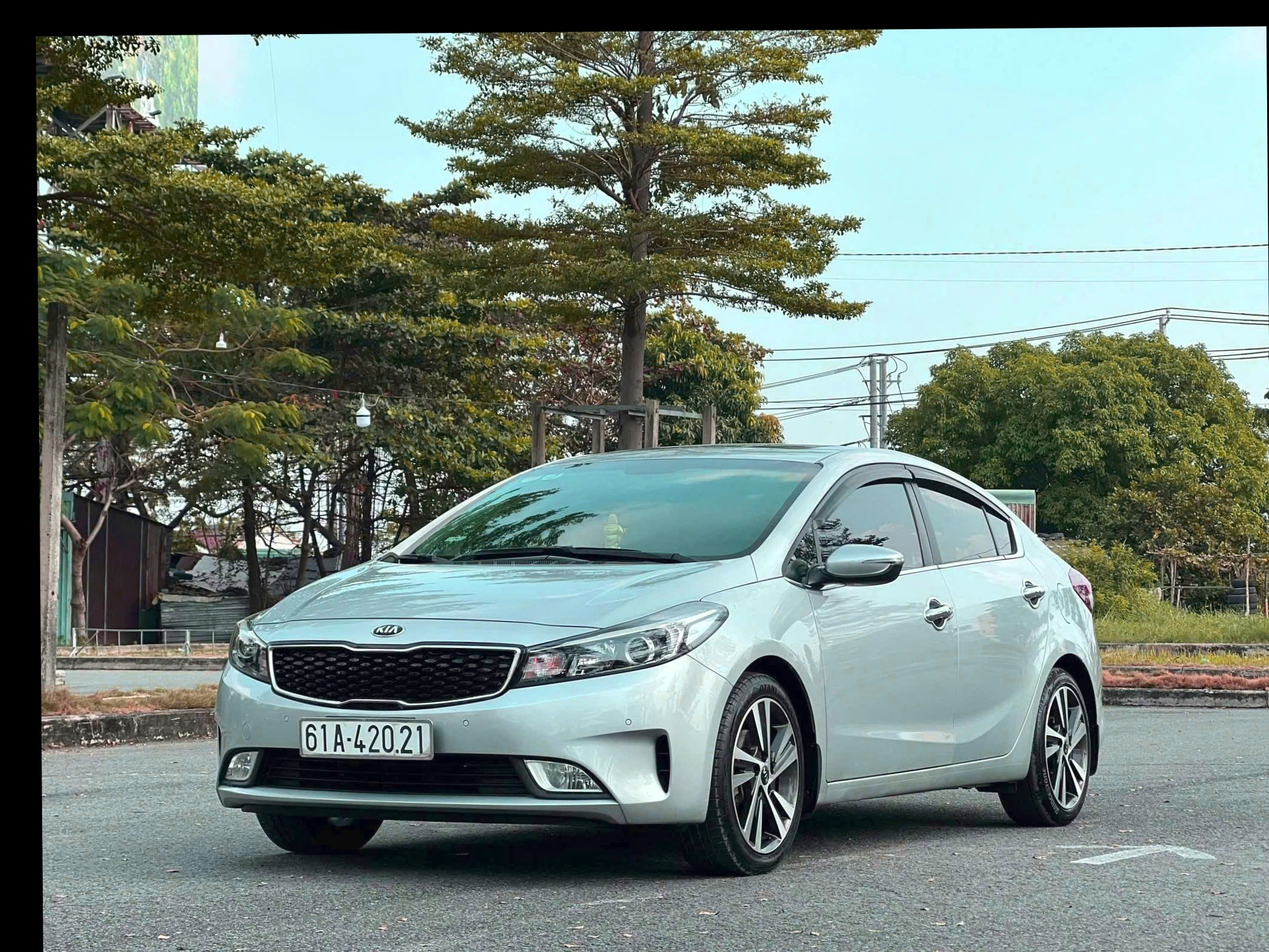Bien-so: (300, 658, 434, 711)
